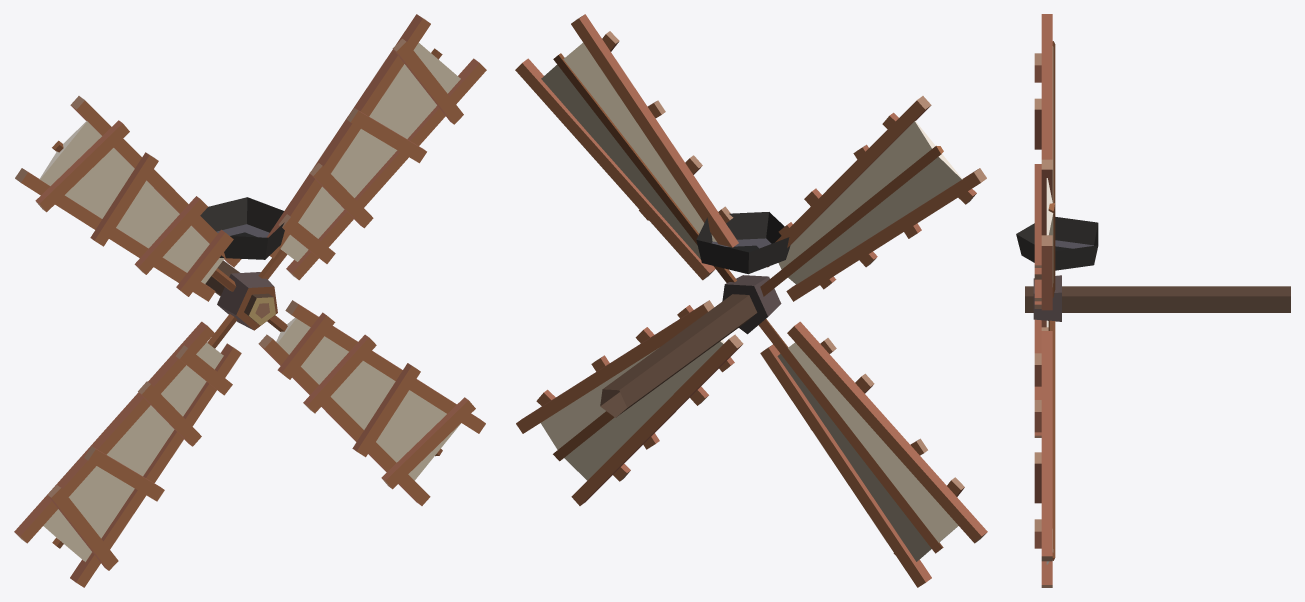
File: windmill_blades.glb
The picture shows the model from 3 angles, left to right: view 1: azimuth 30°, elevation 25°; view 2: azimuth 150°, elevation 25°; view 3: azimuth 270°, elevation 25°; orthographic projection. The views are drawn at different scales.
Parts seen in each view (by area): view 1: TB_Bd_Windmill, TB_Bd_WindmillAxis; view 2: TB_Bd_Windmill, TB_Bd_WindmillAxis; view 3: TB_Bd_Windmill, TB_Bd_WindmillAxis.
Boxes of the visible parts, <box> form: TB_Bd_Windmill: <box>14,14,486,587</box>; TB_Bd_WindmillAxis: <box>200,197,284,259</box>; TB_Bd_Windmill: <box>515,14,987,587</box>; TB_Bd_WindmillAxis: <box>696,212,790,274</box>; TB_Bd_Windmill: <box>1025,14,1290,587</box>; TB_Bd_WindmillAxis: <box>1016,217,1098,270</box>.
Size of the model in its own units: 7.4 by 7.4 by 4.29.
Materials: 1 (1 with a texture image).
